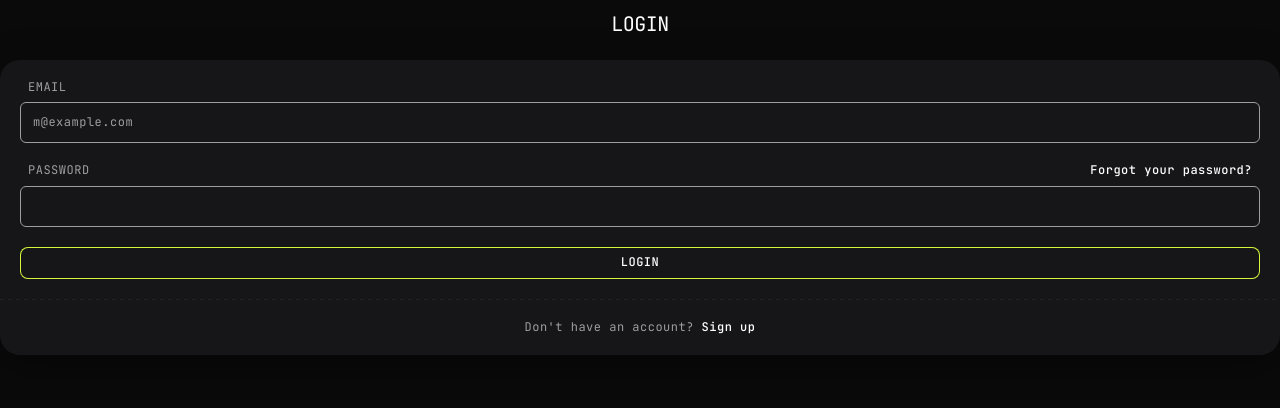
login form redirects › resets the loading state when sign-in fails
Type "user@example.test" into the field labelled "Email" at (640, 123), box [20,102,1260,143]
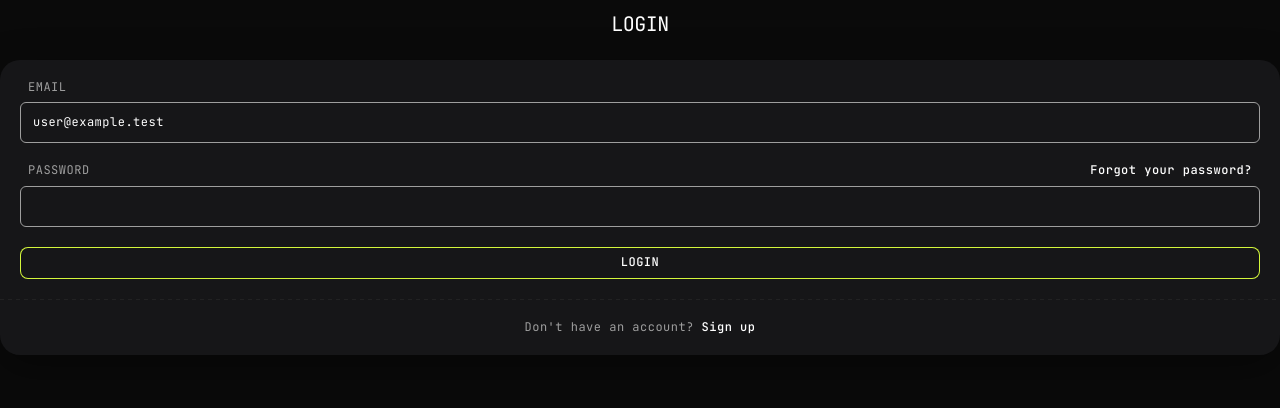
Type "password" into the password field labelled "Password" at (640, 207), box [20,186,1260,227]
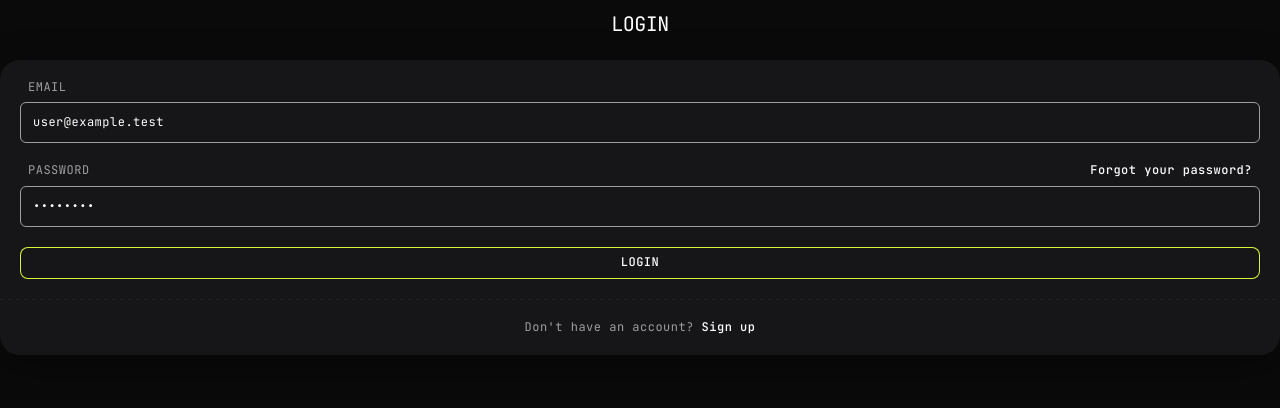
Submit the form from the button "Login", box [20,247,1260,279]
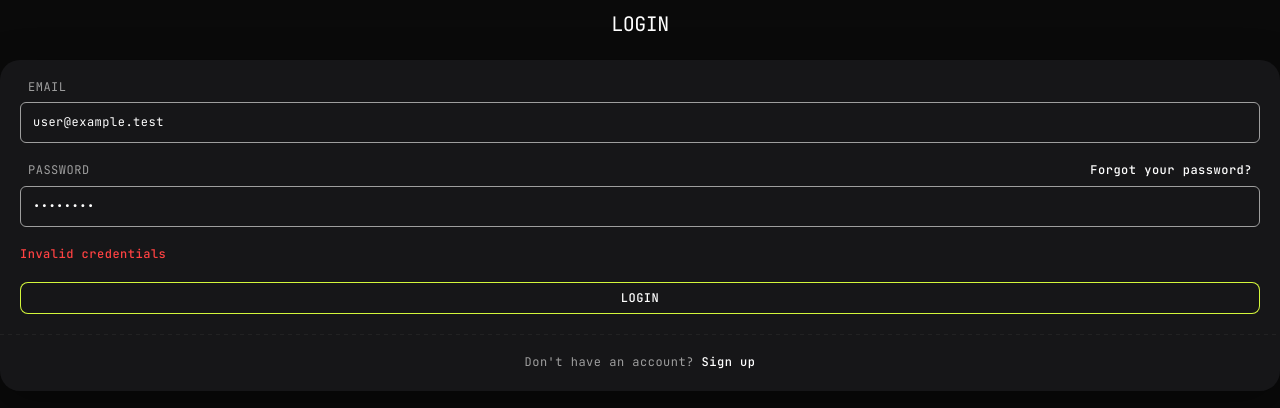
Expected: the button "Login" is enabled, [20,282,1260,314]
Result: the text "Invalid credentials" is shown at [20,246,166,262]
